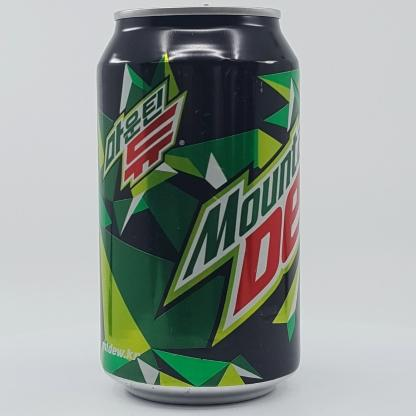------355ML: (96, 4, 301, 406)
